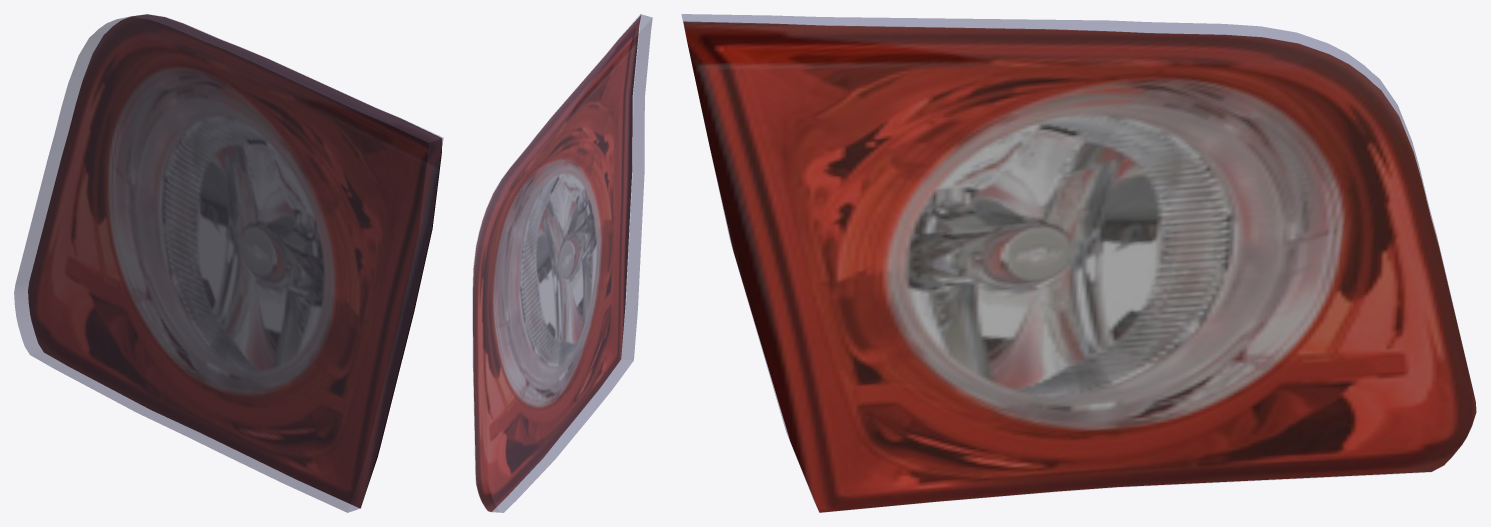
3 views of the same model, side by side, from view 1: azimuth 30°, elevation 25°; view 2: azimuth 150°, elevation 25°; view 3: azimuth 270°, elevation 25° (orthographic). The views are drawn at different scales.
Visible parts, largest first — view 1: U266_541D_R_U266_541D_R_2_DTaSI, U266_541D_R_1_N_U266_541D_R; view 2: U266_541D_R_U266_541D_R_2_DTaSI, U266_541D_R_1_N_U266_541D_R; view 3: U266_541D_R_1_N_U266_541D_R, U266_541D_R_U266_541D_R_2_DTaSI.
Boxes of the visible parts, box(x1,y1,x2,y2) form: U266_541D_R_U266_541D_R_2_DTaSI: box(14, 14, 443, 512); U266_541D_R_1_N_U266_541D_R: box(28, 14, 442, 508); U266_541D_R_U266_541D_R_2_DTaSI: box(472, 14, 652, 512); U266_541D_R_1_N_U266_541D_R: box(473, 15, 640, 511); U266_541D_R_1_N_U266_541D_R: box(683, 21, 1476, 512); U266_541D_R_U266_541D_R_2_DTaSI: box(681, 14, 1473, 512).
Bounding box in the file's own units: 5.57 × 18.31 × 25.71.
